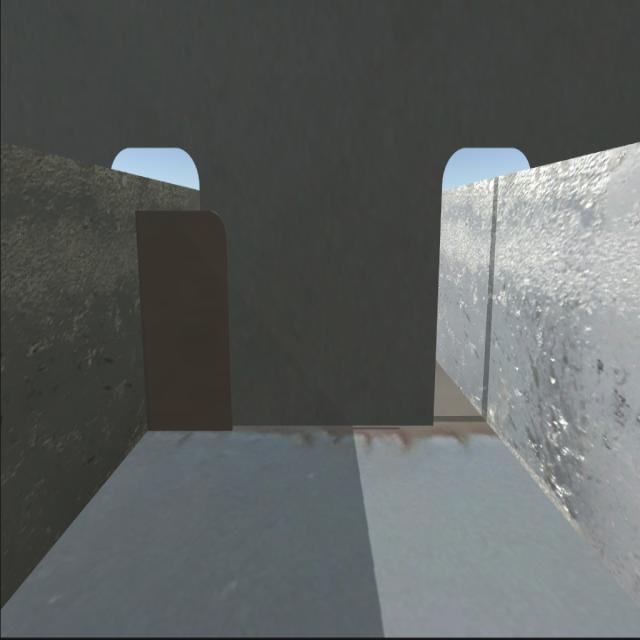fillet_yong_jeop_jang: (146, 422, 434, 432)
longi_yong_jeop_jang: (135, 209, 157, 430)
plate_CP05: (138, 217, 233, 428)
